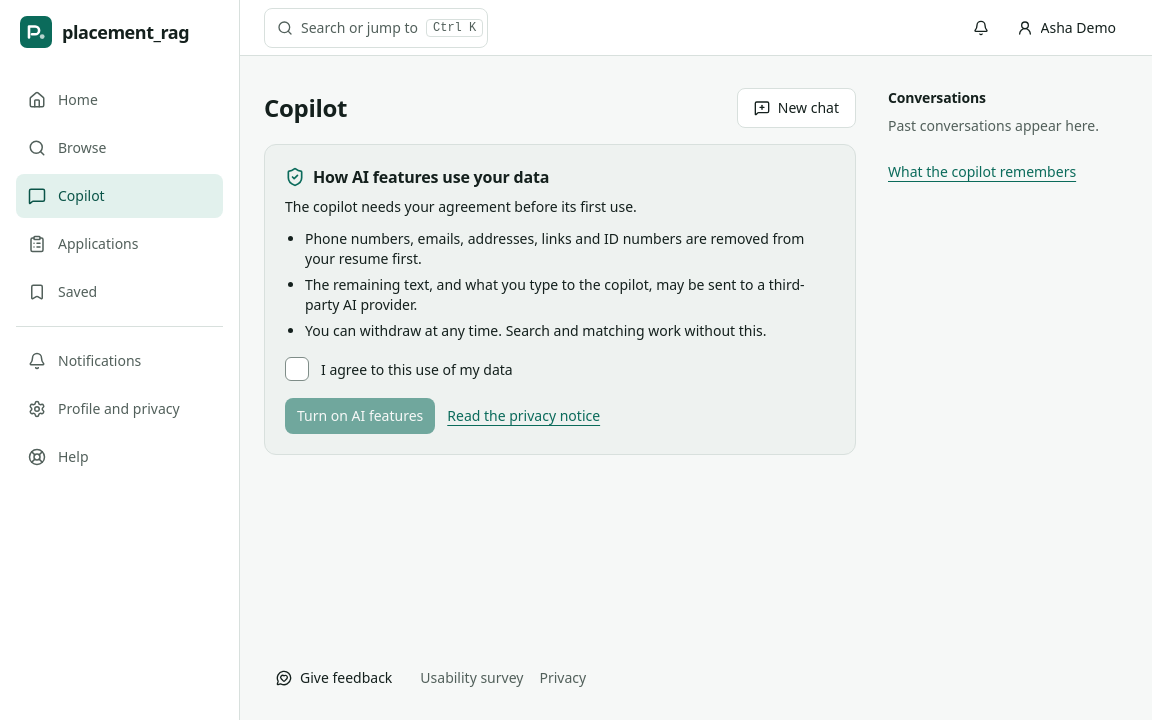
Test case: copilot › asks for consent before first use
The width and height of the screenshot is (1152, 720).
Expected: the button "Turn on AI features" is disabled, [285,398,435,434]
Click the checkbox named "I agree to this use of my data": (297, 369) [285,357,309,381]
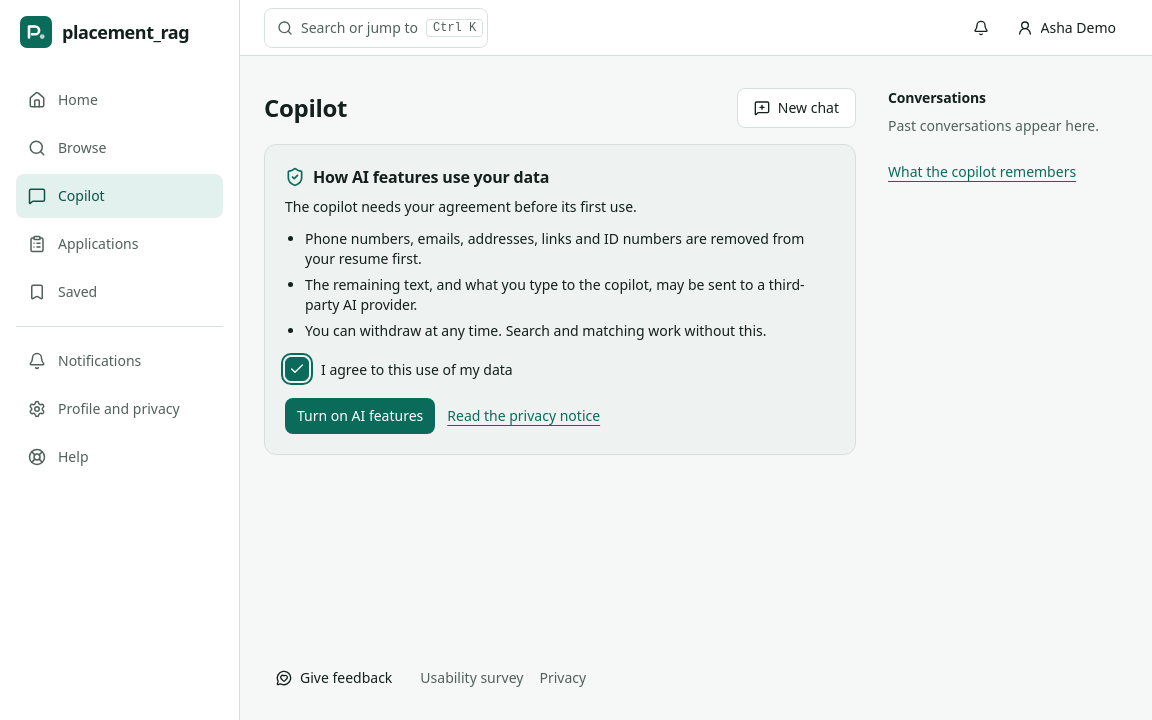
Expected: the button "Turn on AI features" is enabled, [285,398,435,434]
